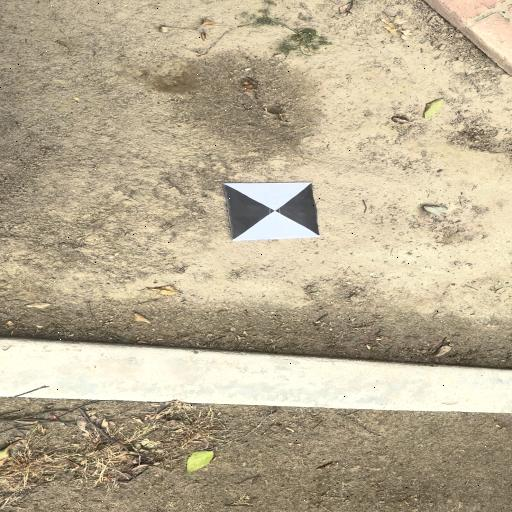target: (225, 183, 321, 241)
